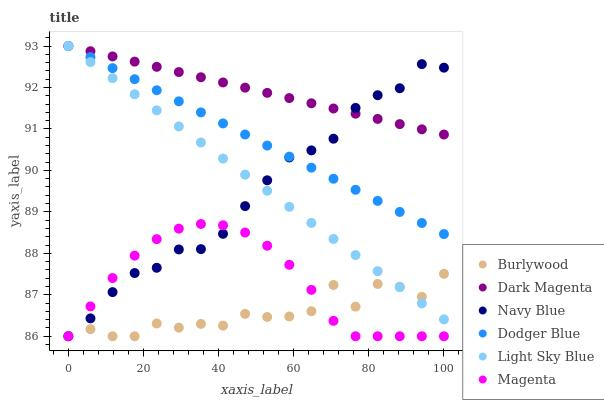axis: (55, 347, 462, 357), (44, 31, 53, 346)
legend: (464, 245, 604, 400)
point: (173, 323, 187, 336), (347, 331, 363, 342), (195, 219, 208, 232), (62, 40, 76, 52), (439, 128, 451, 142), (176, 96, 188, 109), (414, 59, 427, 71), (352, 184, 364, 197), (348, 249, 361, 261), (351, 298, 362, 312), (216, 323, 231, 333), (394, 119, 406, 131), (373, 329, 384, 342), (306, 214, 317, 227), (418, 217, 427, 232), (111, 269, 121, 282), (129, 328, 139, 341), (438, 268, 447, 282), (148, 235, 162, 244), (395, 81, 406, 92), (438, 62, 449, 73), (172, 245, 183, 256), (418, 330, 429, 341), (86, 302, 97, 313), (174, 121, 184, 133), (285, 151, 297, 161), (267, 314, 275, 329), (263, 240, 272, 253), (329, 134, 339, 144), (242, 168, 251, 179), (349, 100, 361, 108), (85, 326, 97, 334), (108, 72, 117, 82), (329, 283, 339, 292), (65, 329, 74, 339), (87, 314, 97, 323), (306, 286, 317, 294), (154, 62, 162, 72), (351, 112, 361, 120), (153, 264, 162, 272), (219, 120, 229, 127), (263, 140, 273, 147), (417, 292, 427, 299), (131, 75, 139, 83), (197, 74, 206, 81), (242, 83, 249, 91), (307, 100, 315, 107)
